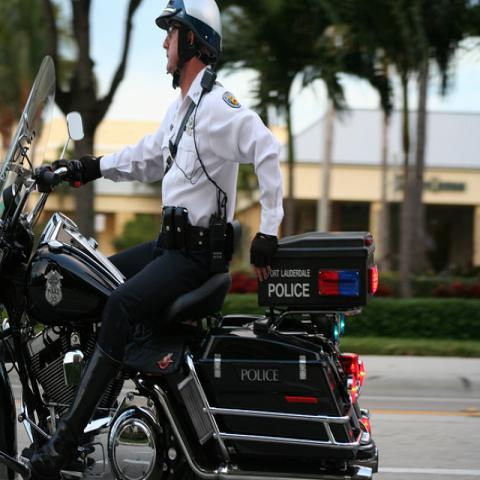motorcycle: (0, 61, 380, 475)
